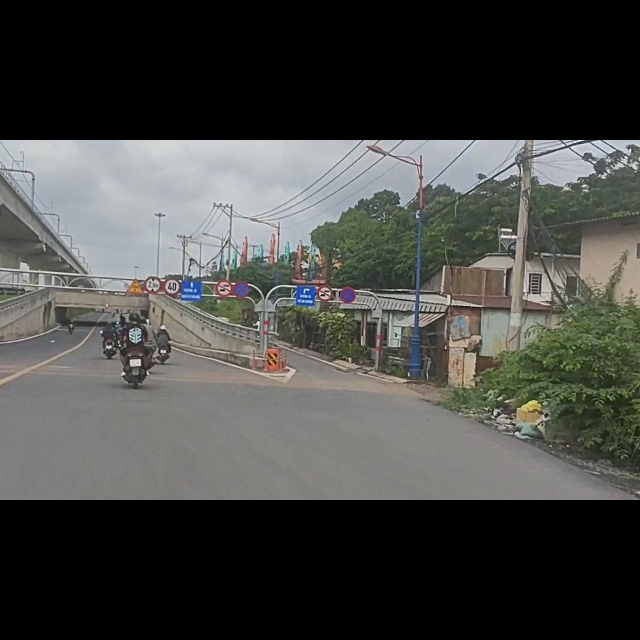bien_chi_dan: (215, 249, 233, 280), (339, 261, 357, 292), (234, 251, 251, 283), (163, 247, 181, 277), (127, 244, 145, 274), (145, 243, 161, 273), (317, 258, 332, 288)
